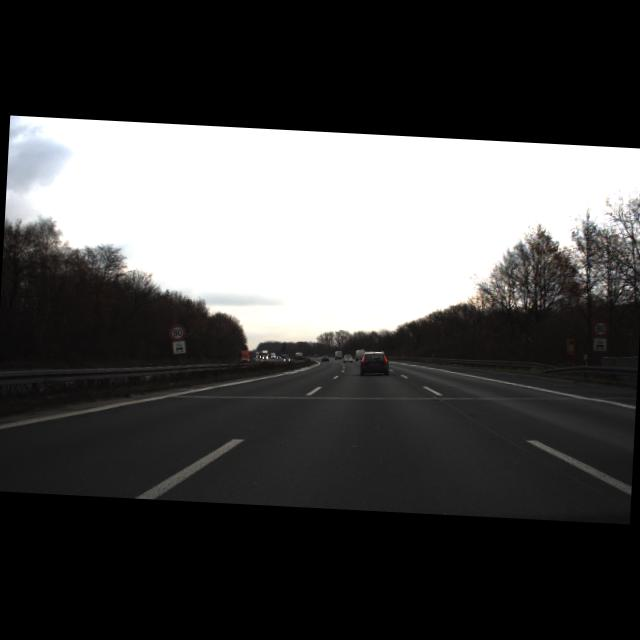prohibitory: (591, 318, 609, 337), (168, 324, 186, 342)
